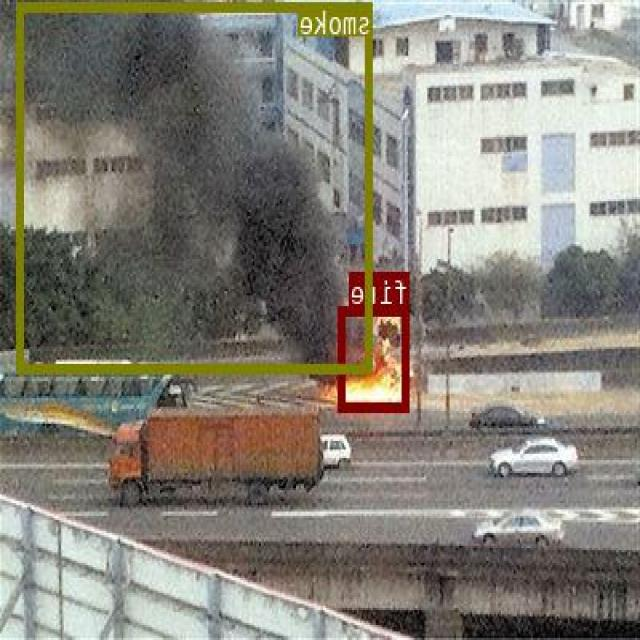fire: (340, 306, 411, 410)
smoke: (18, 2, 374, 372)
